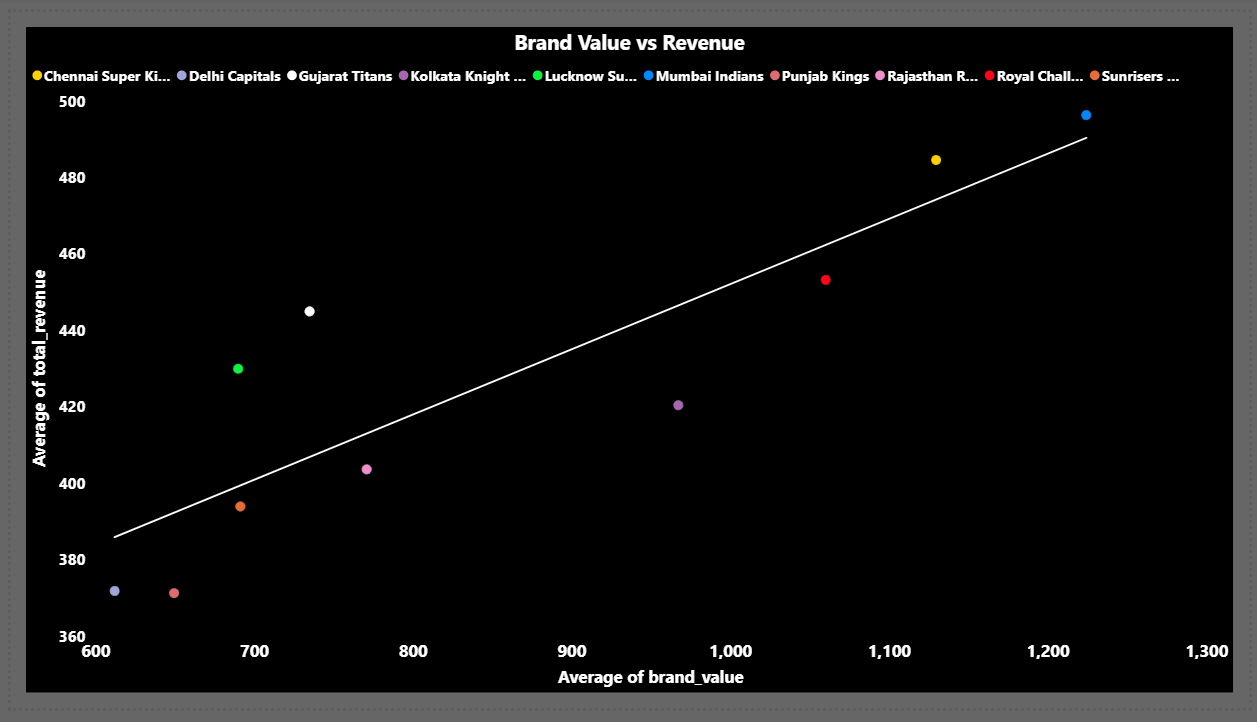

Layout of this report page (visuals, bound fields, positions):
{"tool":"powerbi","page":{"name":"Page 3","canvas":[1280,720],"ordinal":2},"visuals":[{"type":"scatterChart","title":"Brand Value vs Revenue","fields":{"X":["Avg(public vw_team_season_analysis.brand_value)"],"Y":["Avg(public vw_team_season_analysis.total_revenue)"],"Series":["public vw_team_season_analysis.team_name"]},"box":[16,16,1248,688],"z":0}]}

Visuals, with their boxes in screenshot pixels (x1, y1, x2, y2), scaled from the page's 1280x720 canvas onto the 1257x722 screenshot:
"Brand Value vs Revenue" scatterChart: <region>16, 16, 1241, 706</region>
